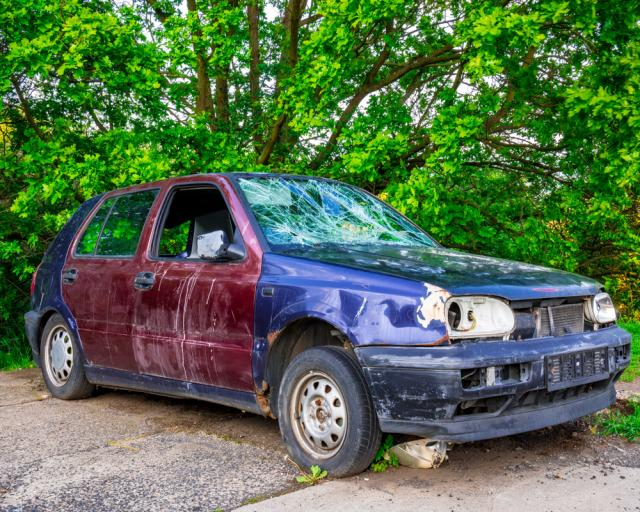dent: (323, 285, 451, 348)
glass shatter: (236, 176, 440, 248)
lamp broken: (447, 295, 515, 339), (591, 293, 617, 325)
